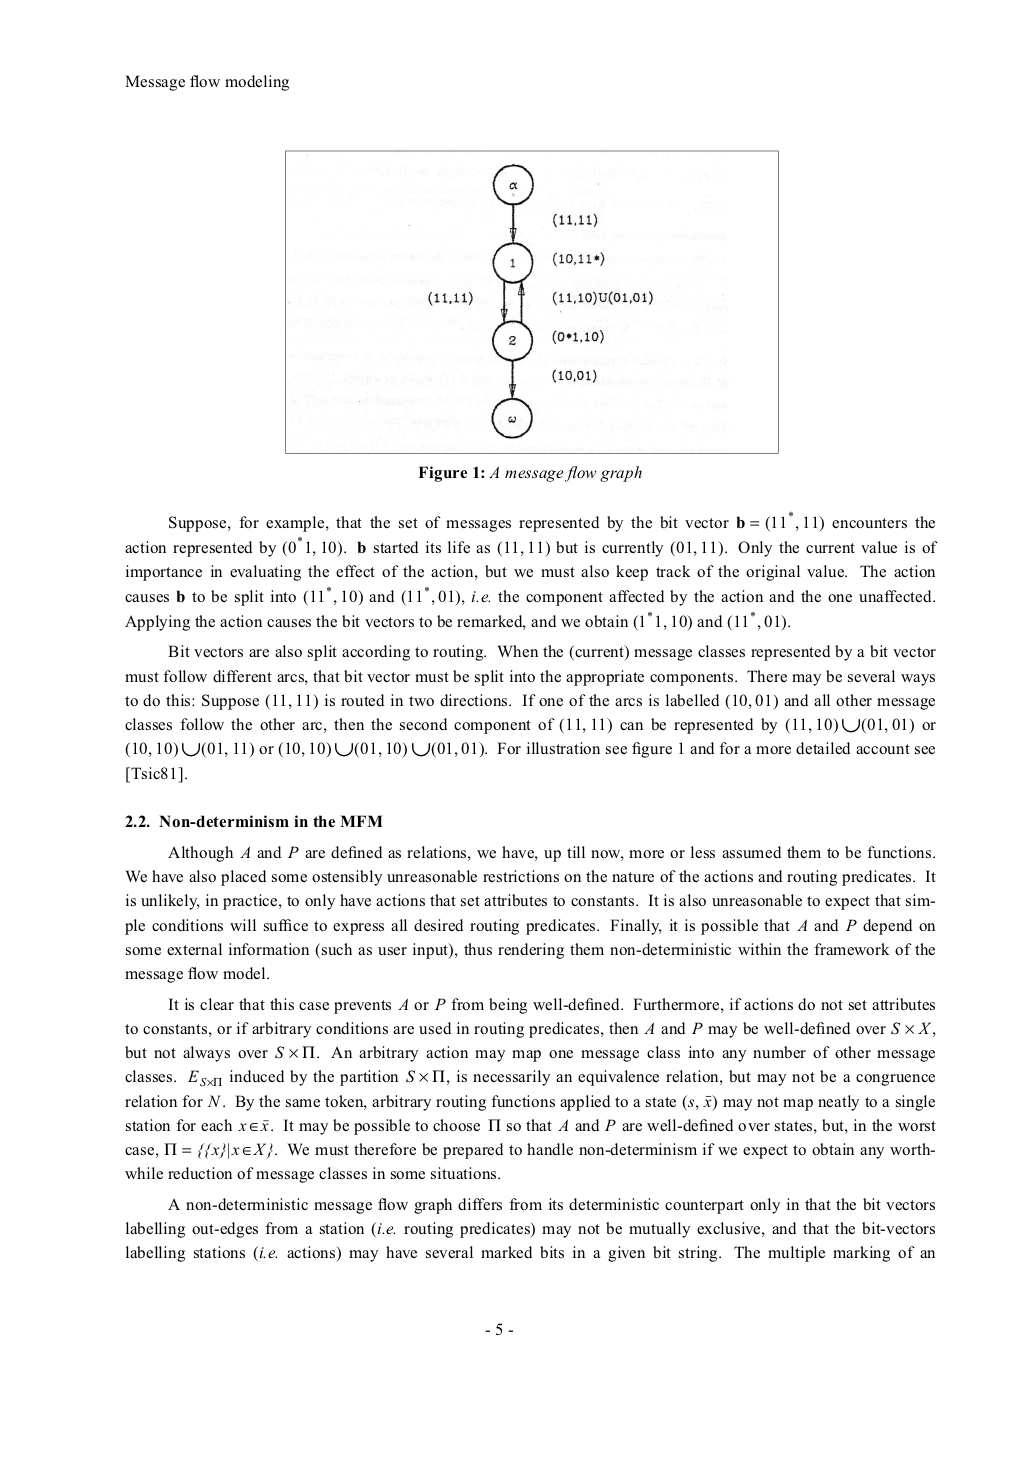figure: (285, 149, 778, 454)
